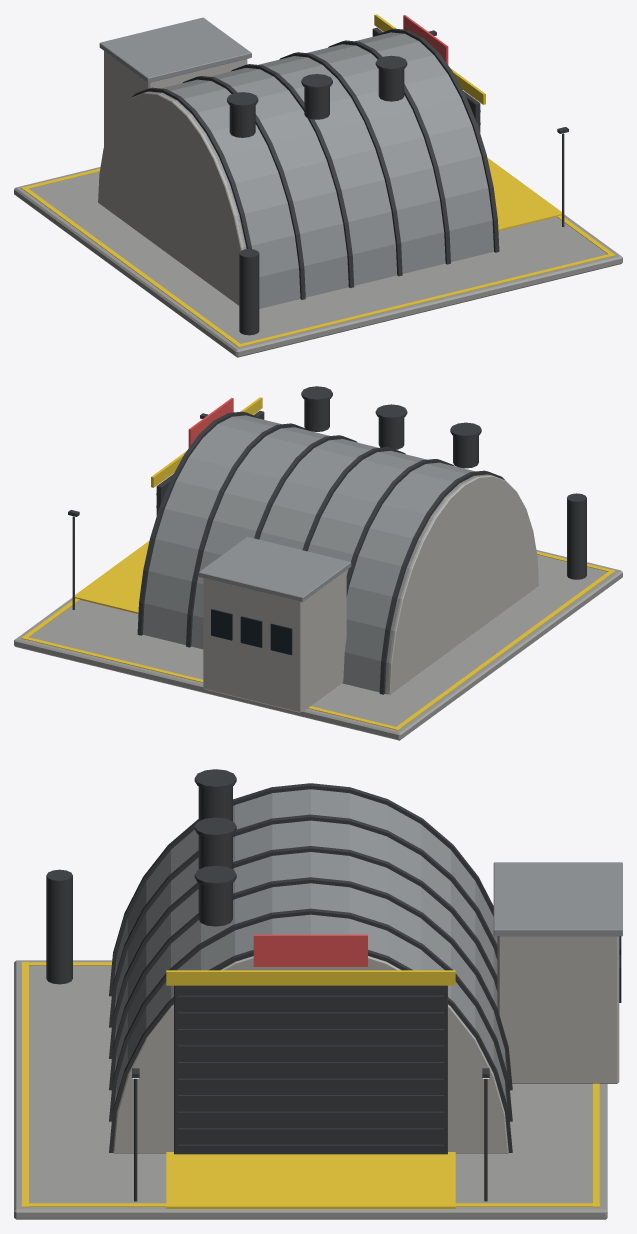
Rendered from factory.glb.
3 renders of one model, top to bottom at view 1: azimuth 30°, elevation 25°; view 2: azimuth 150°, elevation 25°; view 3: azimuth 270°, elevation 25°, orthographic. The views are drawn at different scales.
Visible parts, largest first — view 1: Base; view 2: Base; view 3: Base.
Part boxes in pixels (left/top/right/bottom): Base: left=14, top=14, right=622, bottom=357; Base: left=14, top=386, right=622, bottom=740; Base: left=14, top=769, right=622, bottom=1219.
Bounding box in the file's own units: 15.6 × 7.1 × 16.
